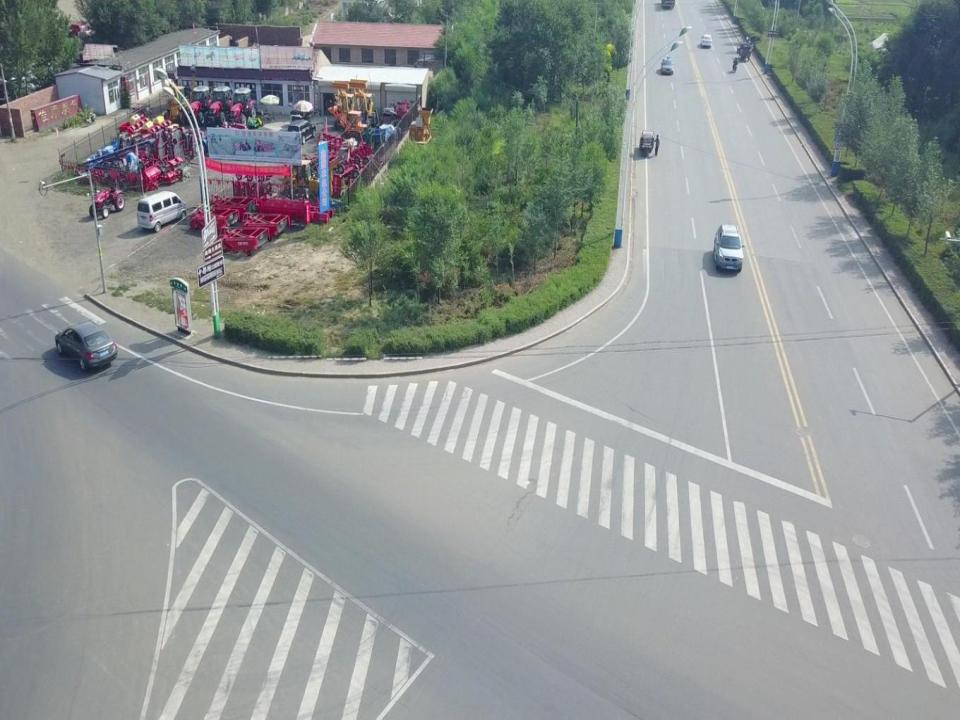car: (54, 320, 118, 370), (714, 223, 744, 271), (288, 119, 316, 146), (661, 56, 675, 75), (700, 34, 712, 47)
van: (137, 191, 186, 233)
